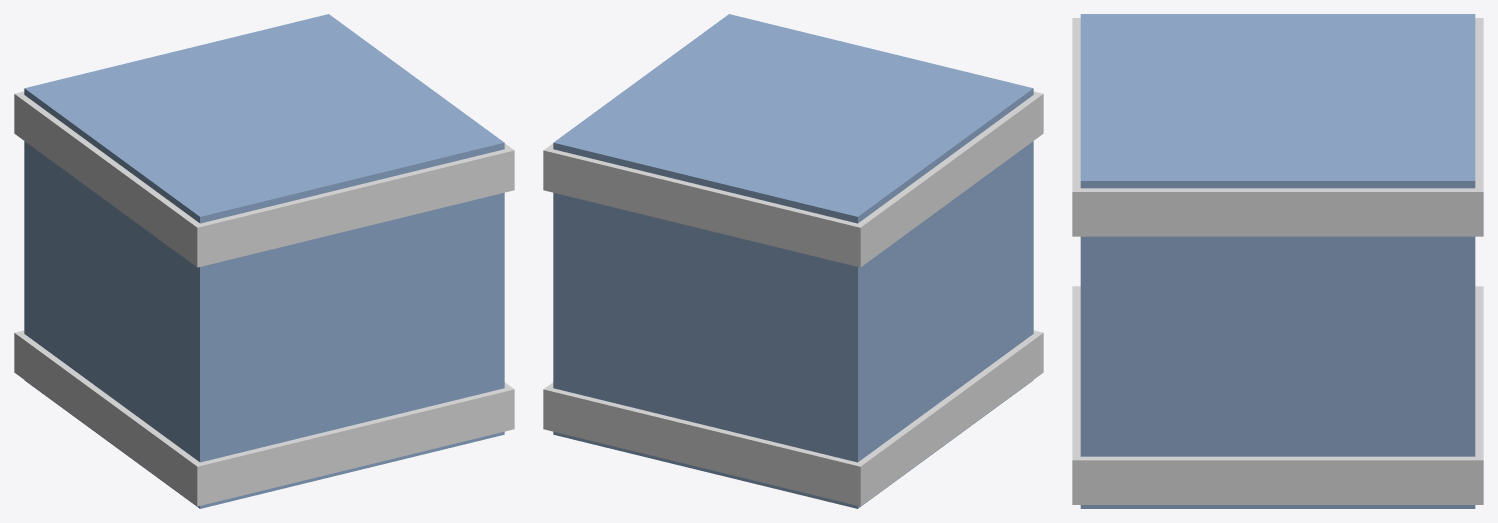
The model's file is sky_crate.glb.
3 views of the same model, side by side, from view 1: azimuth 30°, elevation 25°; view 2: azimuth 150°, elevation 25°; view 3: azimuth 270°, elevation 25° (orthographic). The views are drawn at different scales.
Visible parts, largest first — view 1: sky_crate_v0; view 2: sky_crate_v0; view 3: sky_crate_v0.
Part boxes in pixels (left/top/right/bottom): sky_crate_v0: left=14, top=14, right=514, bottom=508; sky_crate_v0: left=543, top=14, right=1043, bottom=508; sky_crate_v0: left=1072, top=14, right=1483, bottom=508.
Size of the model in its own units: 0.25 by 0.22 by 0.25.
